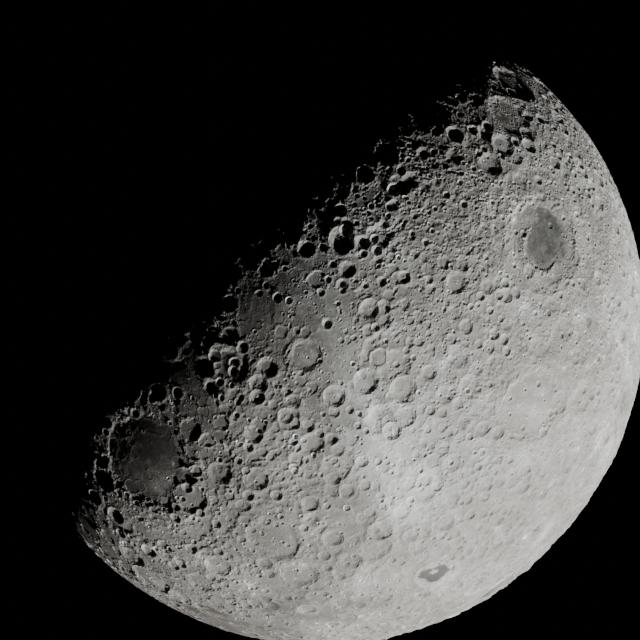crater: (520, 204, 567, 268), (247, 514, 298, 558), (287, 339, 321, 370), (276, 560, 312, 586), (385, 171, 419, 198), (439, 269, 470, 296), (387, 375, 415, 403), (328, 224, 354, 254), (352, 368, 377, 394), (393, 403, 419, 428), (297, 432, 323, 456), (322, 383, 346, 408), (383, 347, 408, 371), (178, 418, 201, 443), (203, 554, 229, 576), (206, 461, 229, 484), (277, 407, 299, 429), (321, 528, 345, 548), (147, 382, 168, 404), (357, 297, 379, 318), (336, 260, 358, 280), (254, 356, 276, 376), (355, 164, 376, 184), (457, 374, 478, 394), (390, 282, 412, 301), (258, 258, 278, 278), (246, 374, 266, 394), (491, 132, 511, 152), (218, 344, 239, 363), (296, 240, 316, 259), (220, 293, 239, 313), (250, 471, 270, 490), (106, 506, 125, 526), (368, 347, 387, 367), (444, 125, 465, 143), (299, 495, 320, 513), (207, 344, 226, 363), (220, 325, 240, 343), (418, 363, 438, 381), (381, 422, 401, 440), (305, 270, 324, 288), (473, 420, 491, 439), (338, 482, 357, 499), (444, 146, 464, 162), (248, 389, 266, 406), (480, 277, 498, 294), (403, 526, 421, 543), (203, 380, 220, 397), (211, 414, 228, 431), (376, 299, 391, 318), (255, 556, 274, 571), (295, 604, 318, 616), (331, 202, 348, 218), (250, 426, 267, 442), (120, 545, 136, 562), (274, 324, 290, 340), (353, 454, 369, 470), (457, 318, 473, 334), (490, 425, 506, 441), (171, 386, 185, 404), (356, 236, 372, 251), (520, 137, 536, 152), (330, 442, 346, 457), (486, 162, 503, 176), (457, 492, 474, 506), (325, 432, 340, 447), (235, 340, 249, 356), (227, 356, 241, 372), (395, 270, 411, 284), (495, 289, 511, 303), (479, 120, 493, 136), (537, 423, 551, 438), (140, 542, 155, 556), (384, 199, 400, 212), (437, 255, 451, 269), (522, 265, 535, 280), (227, 365, 240, 379), (455, 108, 469, 121), (318, 549, 332, 562), (189, 464, 203, 477), (172, 557, 186, 570), (417, 148, 431, 160), (243, 440, 257, 452), (435, 406, 449, 418), (266, 600, 280, 612), (522, 110, 536, 122), (337, 280, 349, 293), (321, 318, 334, 330), (511, 152, 524, 164), (270, 489, 283, 501), (298, 325, 311, 337), (272, 292, 284, 304), (130, 408, 142, 420), (467, 125, 479, 137), (212, 518, 224, 530), (288, 463, 300, 475), (369, 233, 380, 246), (510, 136, 521, 148), (372, 245, 383, 256), (498, 335, 509, 346), (477, 447, 488, 458), (473, 338, 484, 349), (244, 492, 256, 502), (231, 411, 241, 422), (358, 248, 369, 258), (253, 288, 264, 298), (426, 405, 436, 416), (499, 278, 510, 288), (584, 317, 593, 329), (284, 296, 294, 306), (421, 237, 431, 247), (379, 277, 389, 287), (316, 288, 326, 298), (172, 514, 182, 524), (489, 330, 499, 340), (552, 160, 562, 170), (188, 544, 198, 554), (194, 508, 204, 518), (122, 490, 131, 501), (408, 230, 417, 240), (503, 347, 512, 357), (342, 503, 352, 512), (442, 190, 451, 199), (367, 202, 376, 211), (235, 456, 244, 465), (459, 200, 468, 208), (333, 298, 342, 306), (291, 433, 299, 442), (598, 202, 605, 212), (536, 178, 544, 185), (535, 380, 542, 388), (578, 164, 585, 172), (349, 359, 356, 367), (547, 222, 554, 230)
rock: (374, 523, 394, 540), (440, 516, 456, 532)
